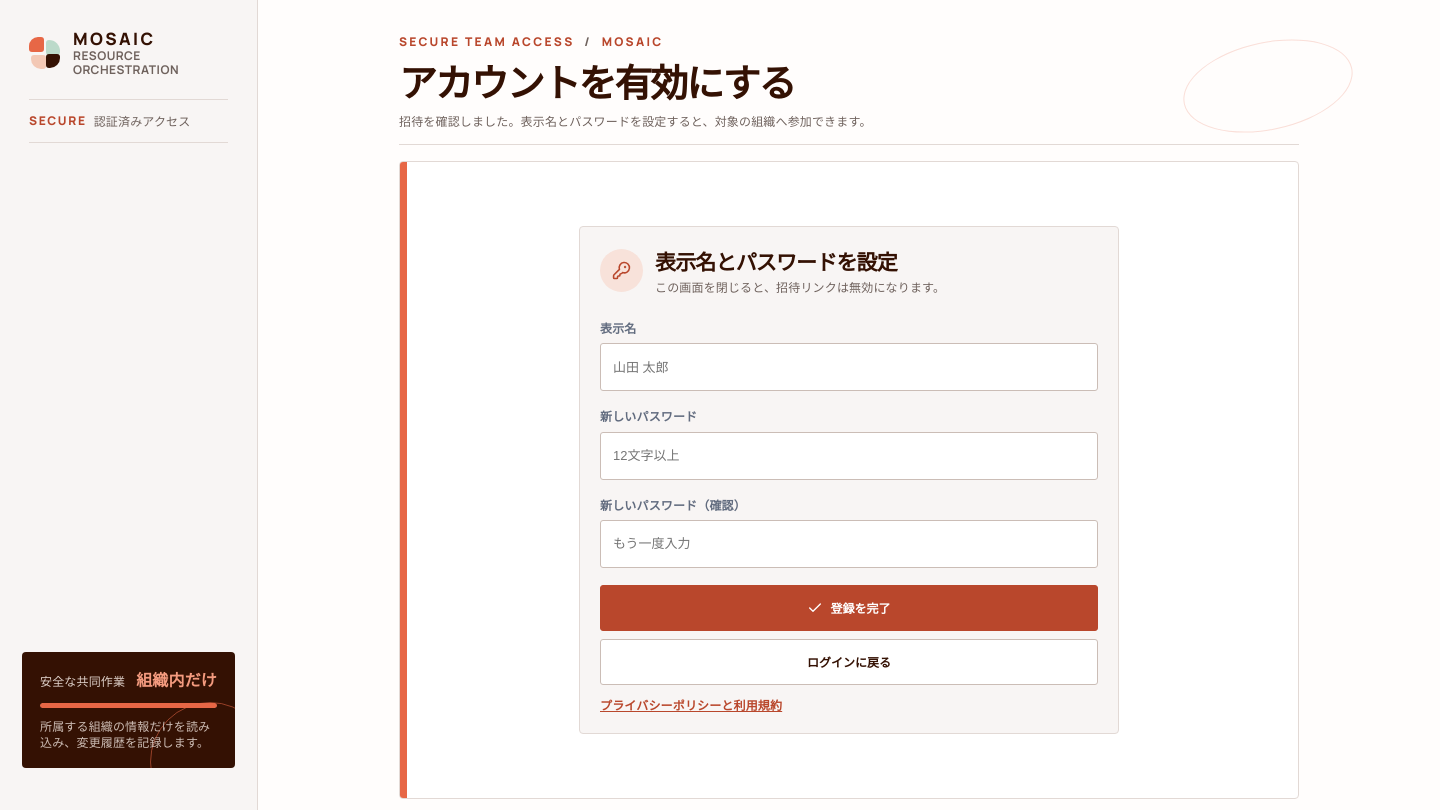
AuthScreen invite onboarding › does not submit mismatched confirmation on the onboarding form
Type "招待 花子" into the field labelled "表示名" at x=849, y=367, box [600,343,1098,391]
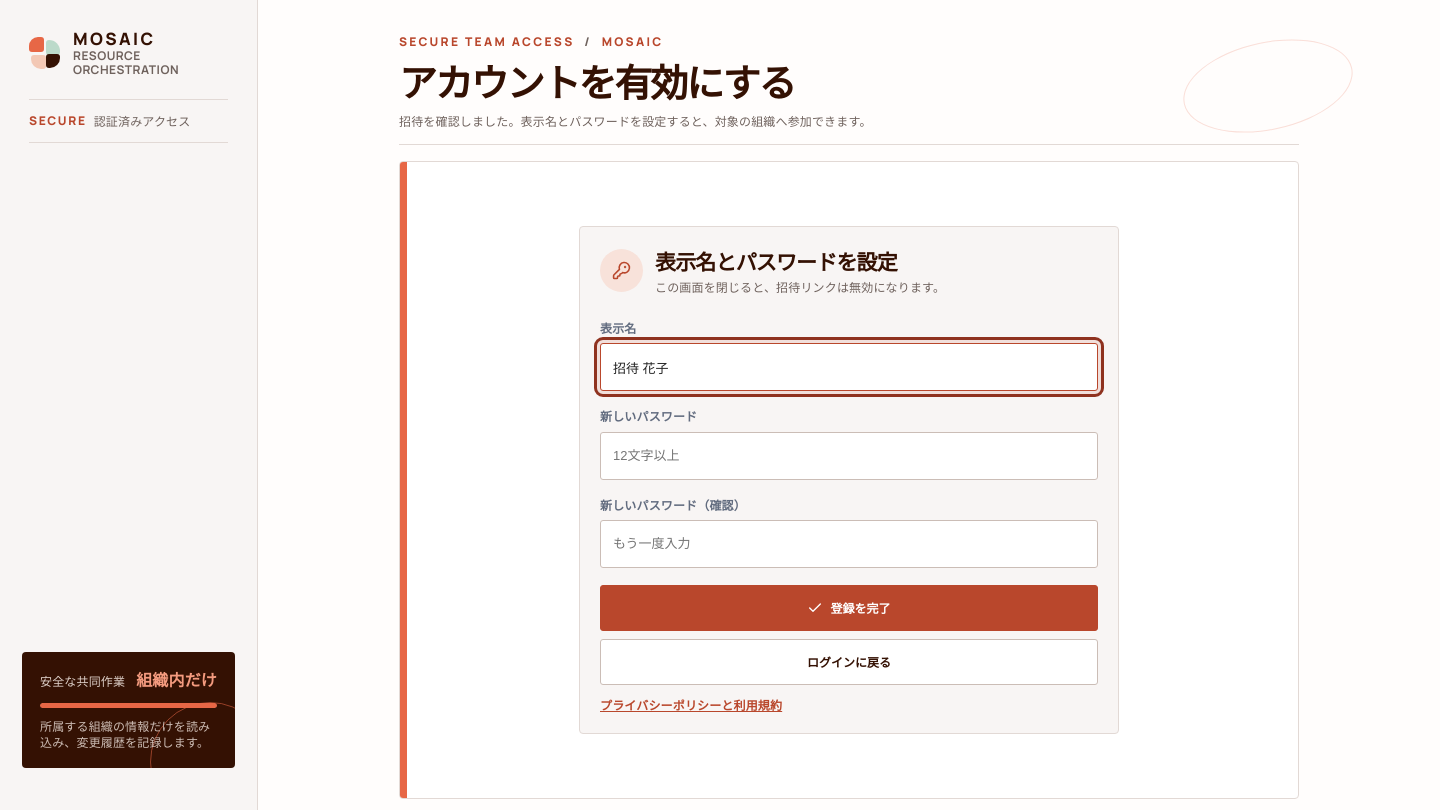
Type "NewPassword12" into the password field labelled "新しいパスワード" at x=849, y=456, box [600,432,1098,480]
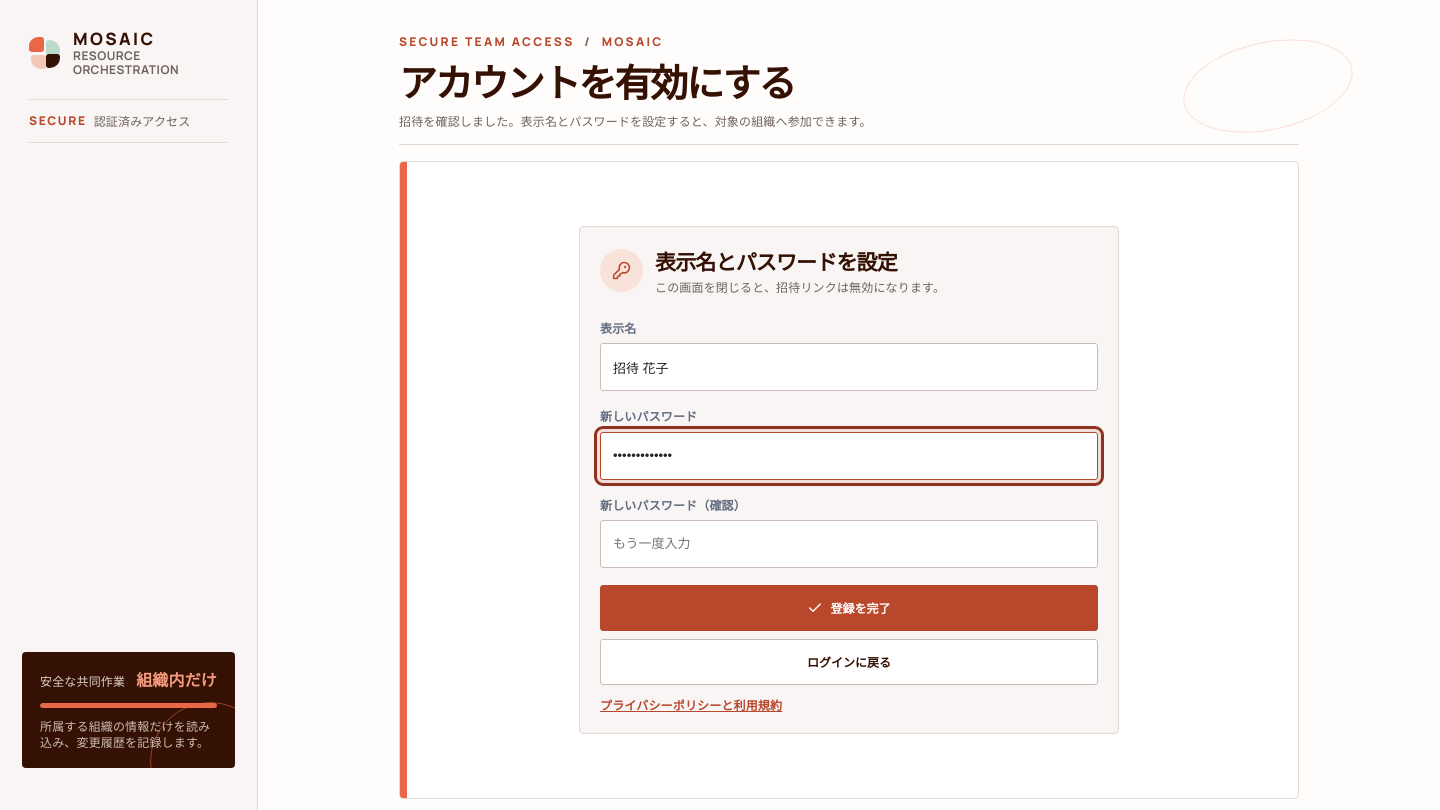
Type "OtherPassword12" into the password field labelled "新しいパスワード（確認）" at x=849, y=544, box [600,520,1098,568]
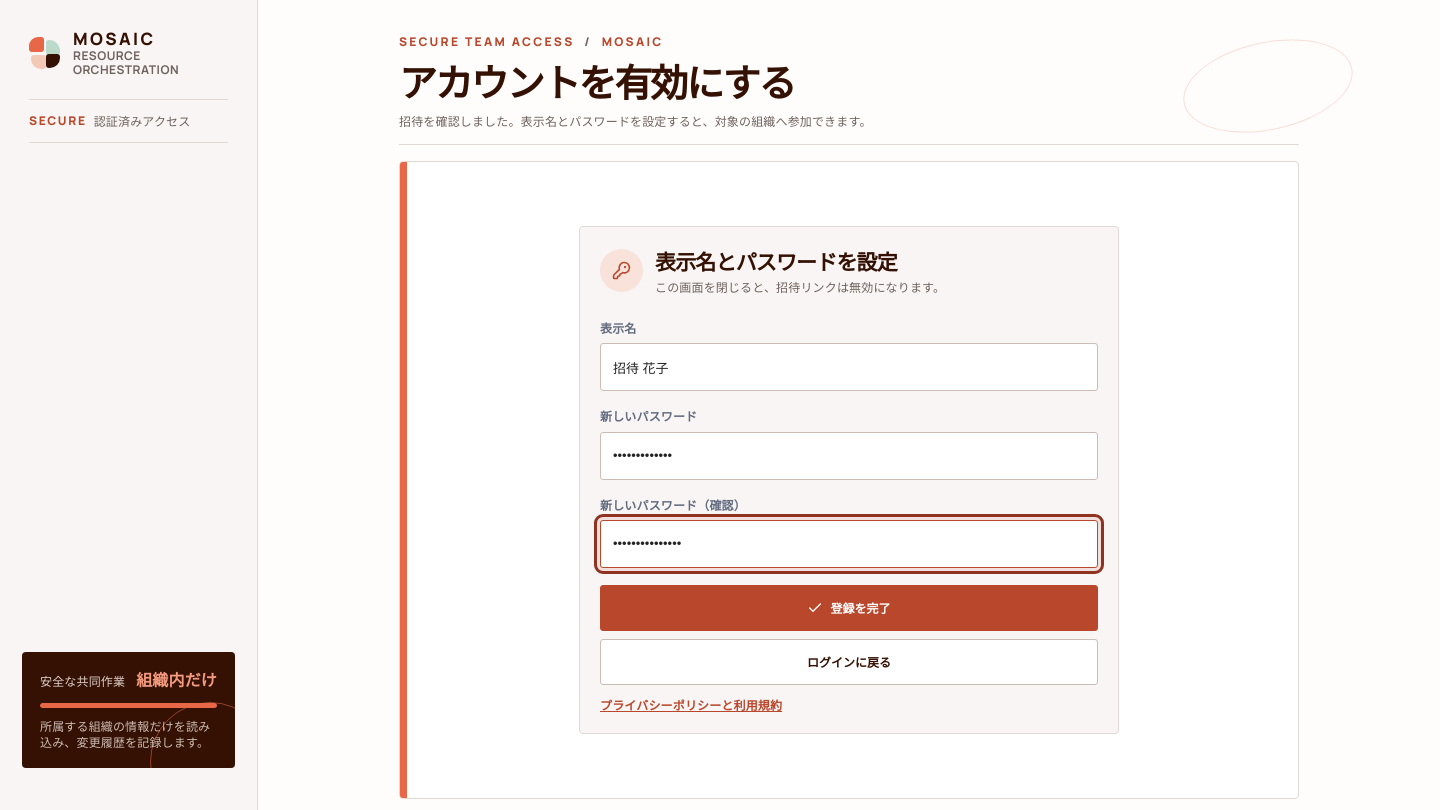
Click the button "登録を完了" at x=849, y=608, box [600,585,1098,631]
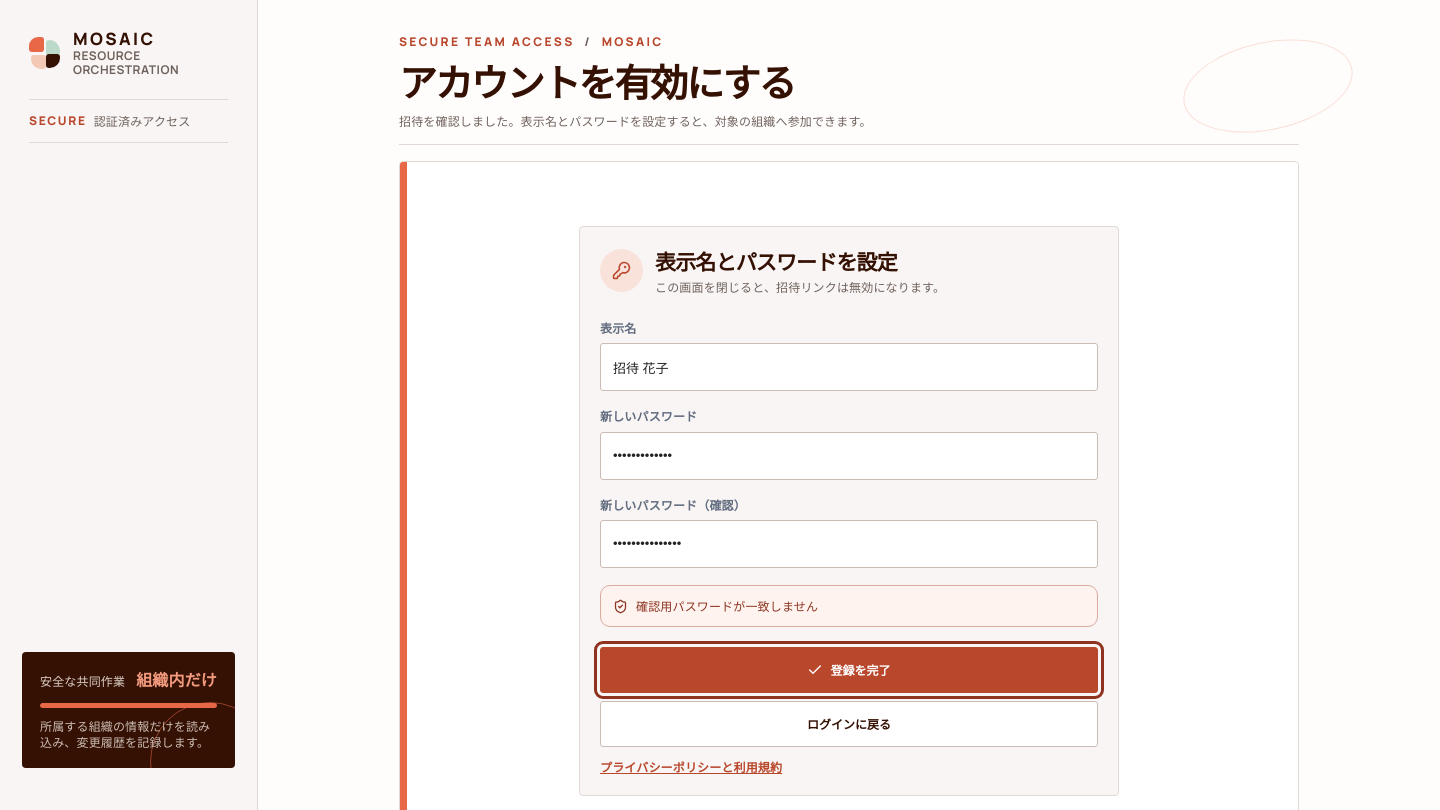
Check: the message reads "確認用パスワードが一致しません", box [636,597,818,614]
